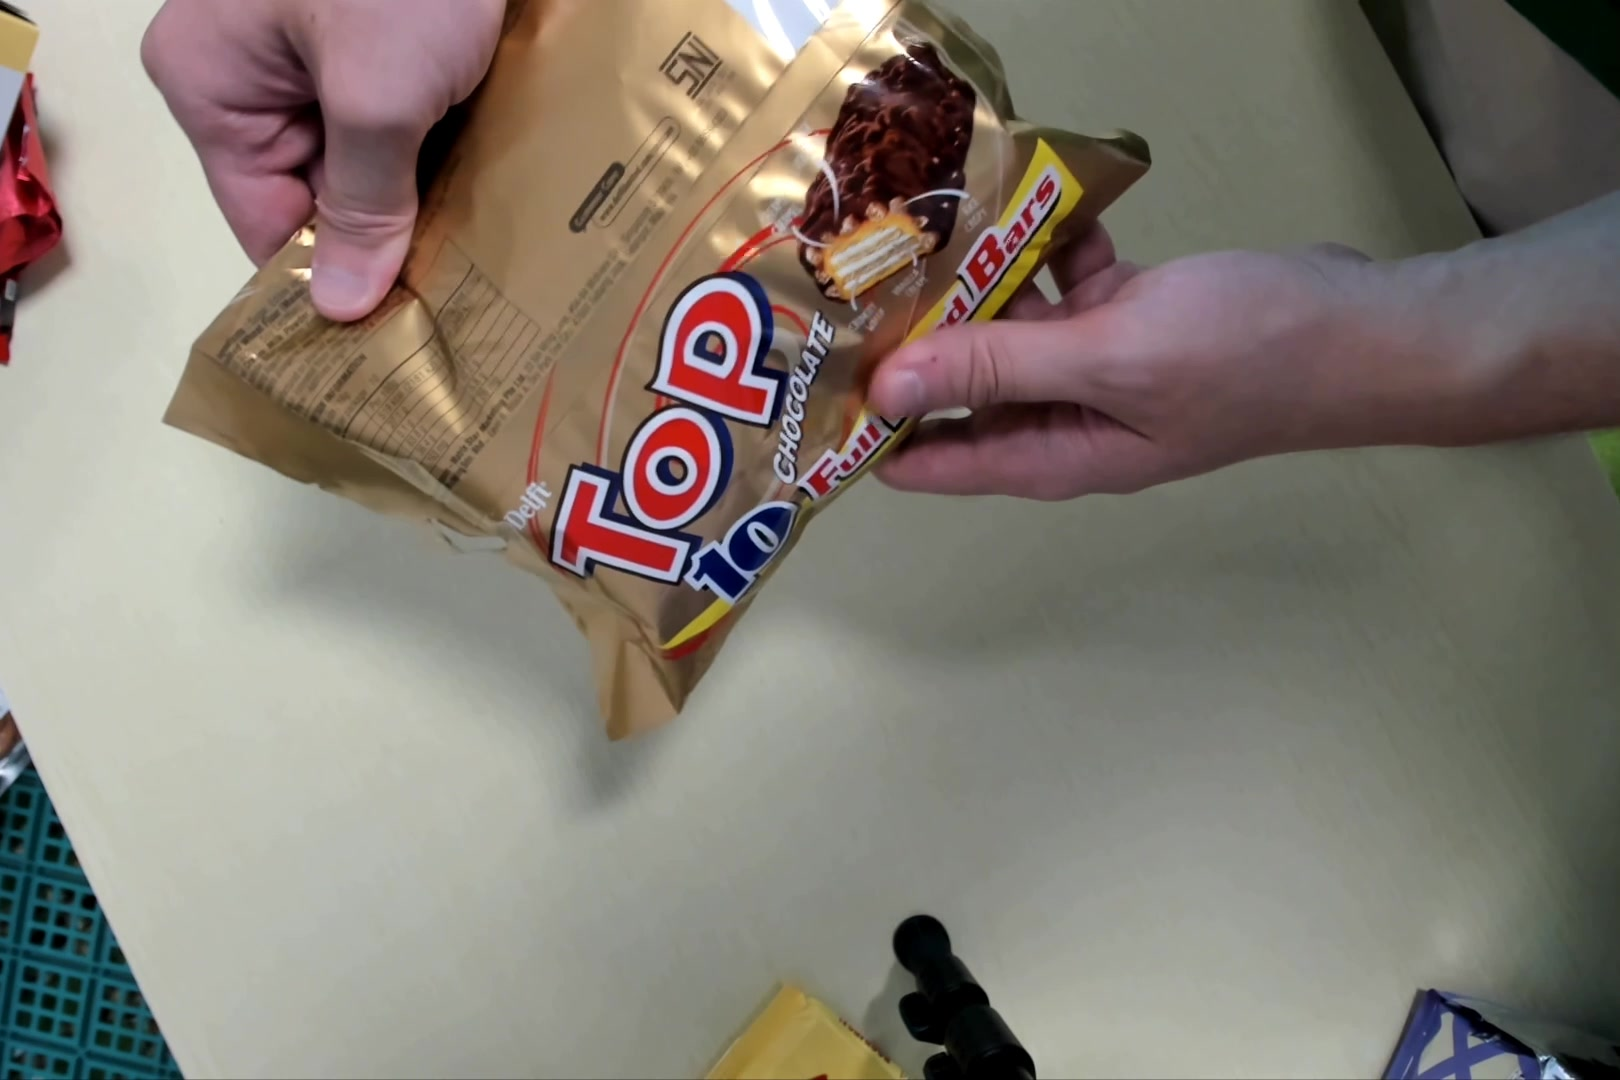SweetsChocolatesOthers_100-199g_NonHalal_NonHealthy: (170, 7, 1151, 736)
